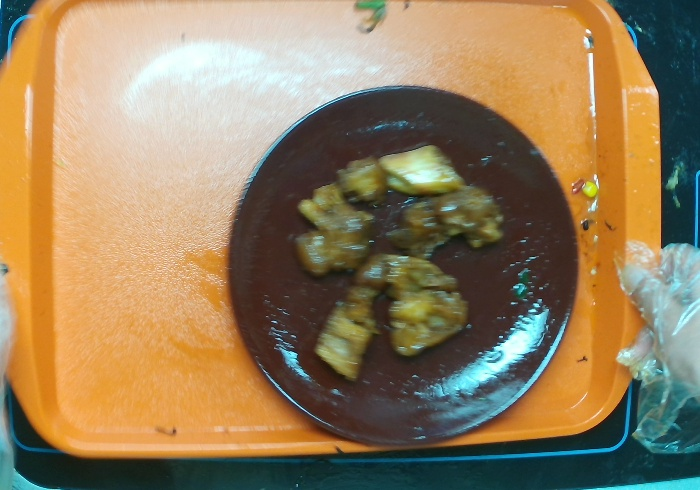HZYJPL-Ka_Fei_Yuan_Pan: (225, 84, 579, 445)
